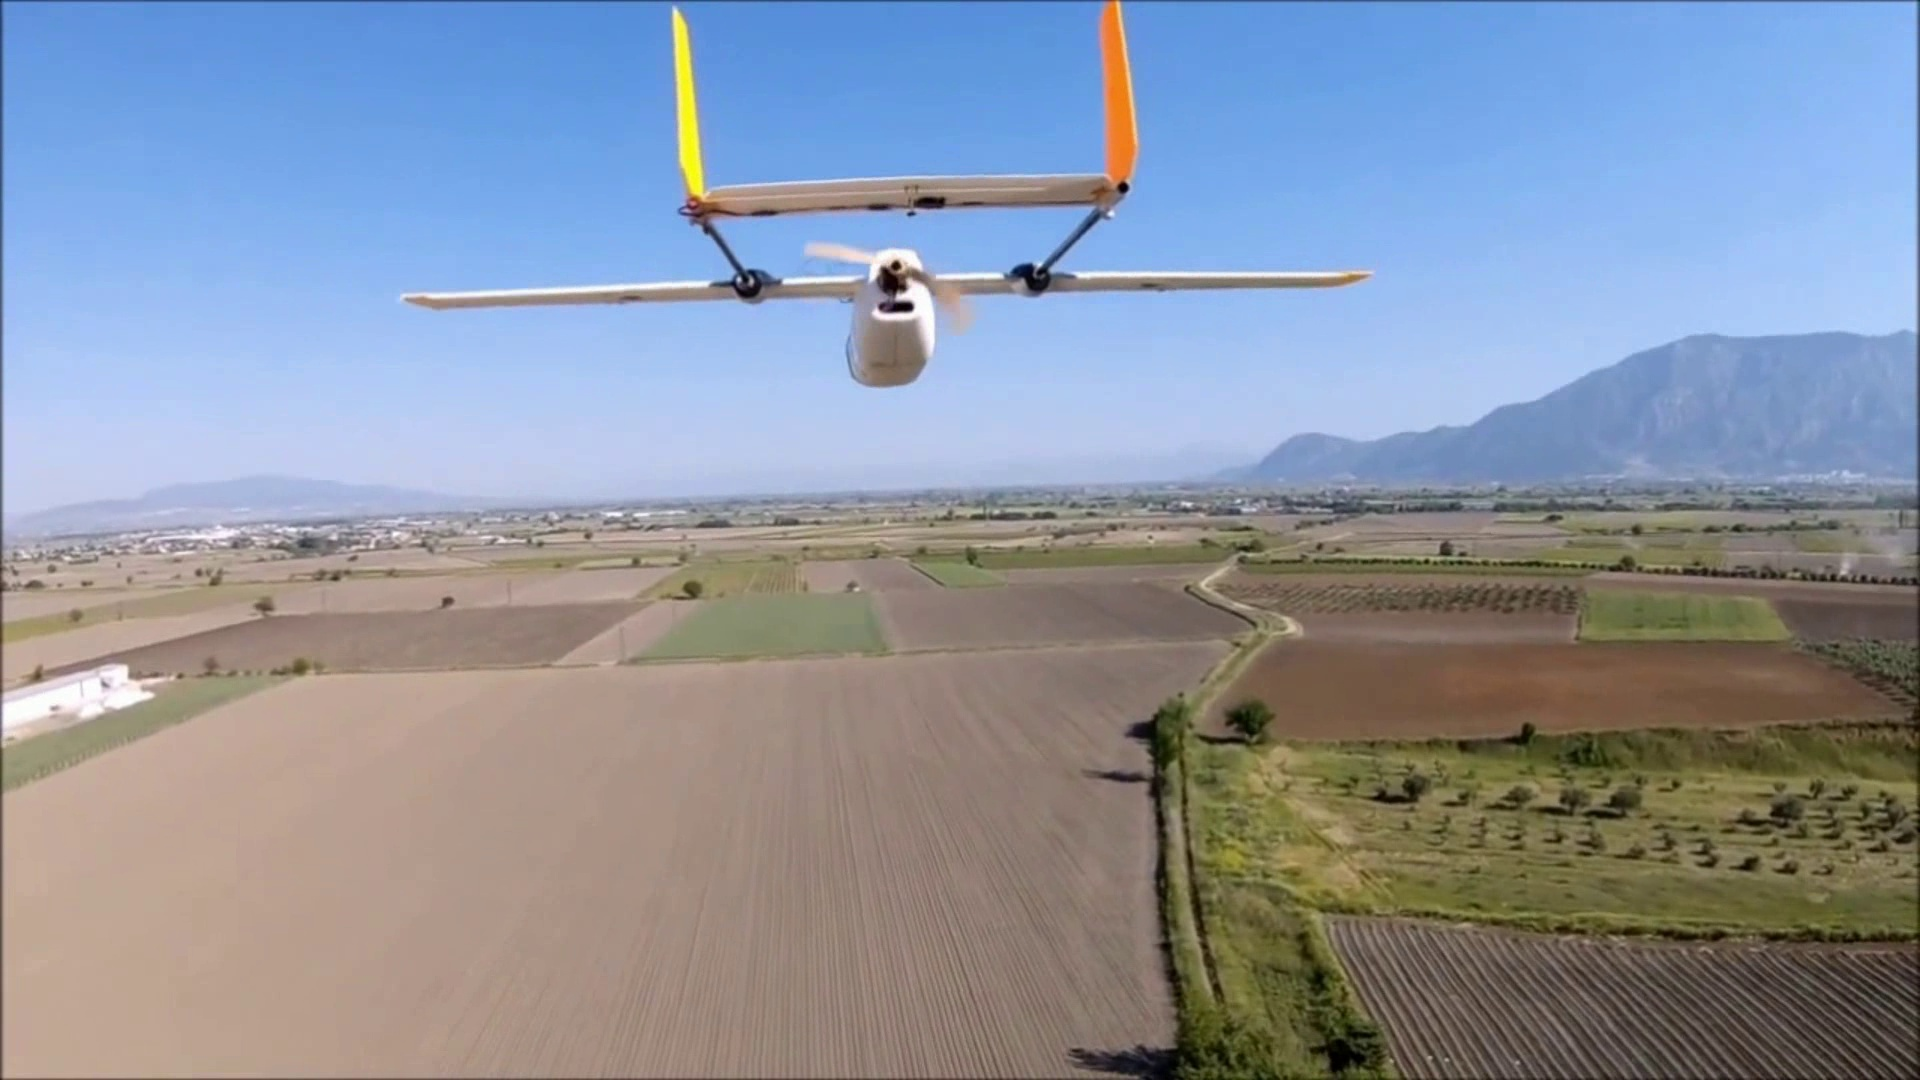airplane: (398, 4, 1371, 382)
